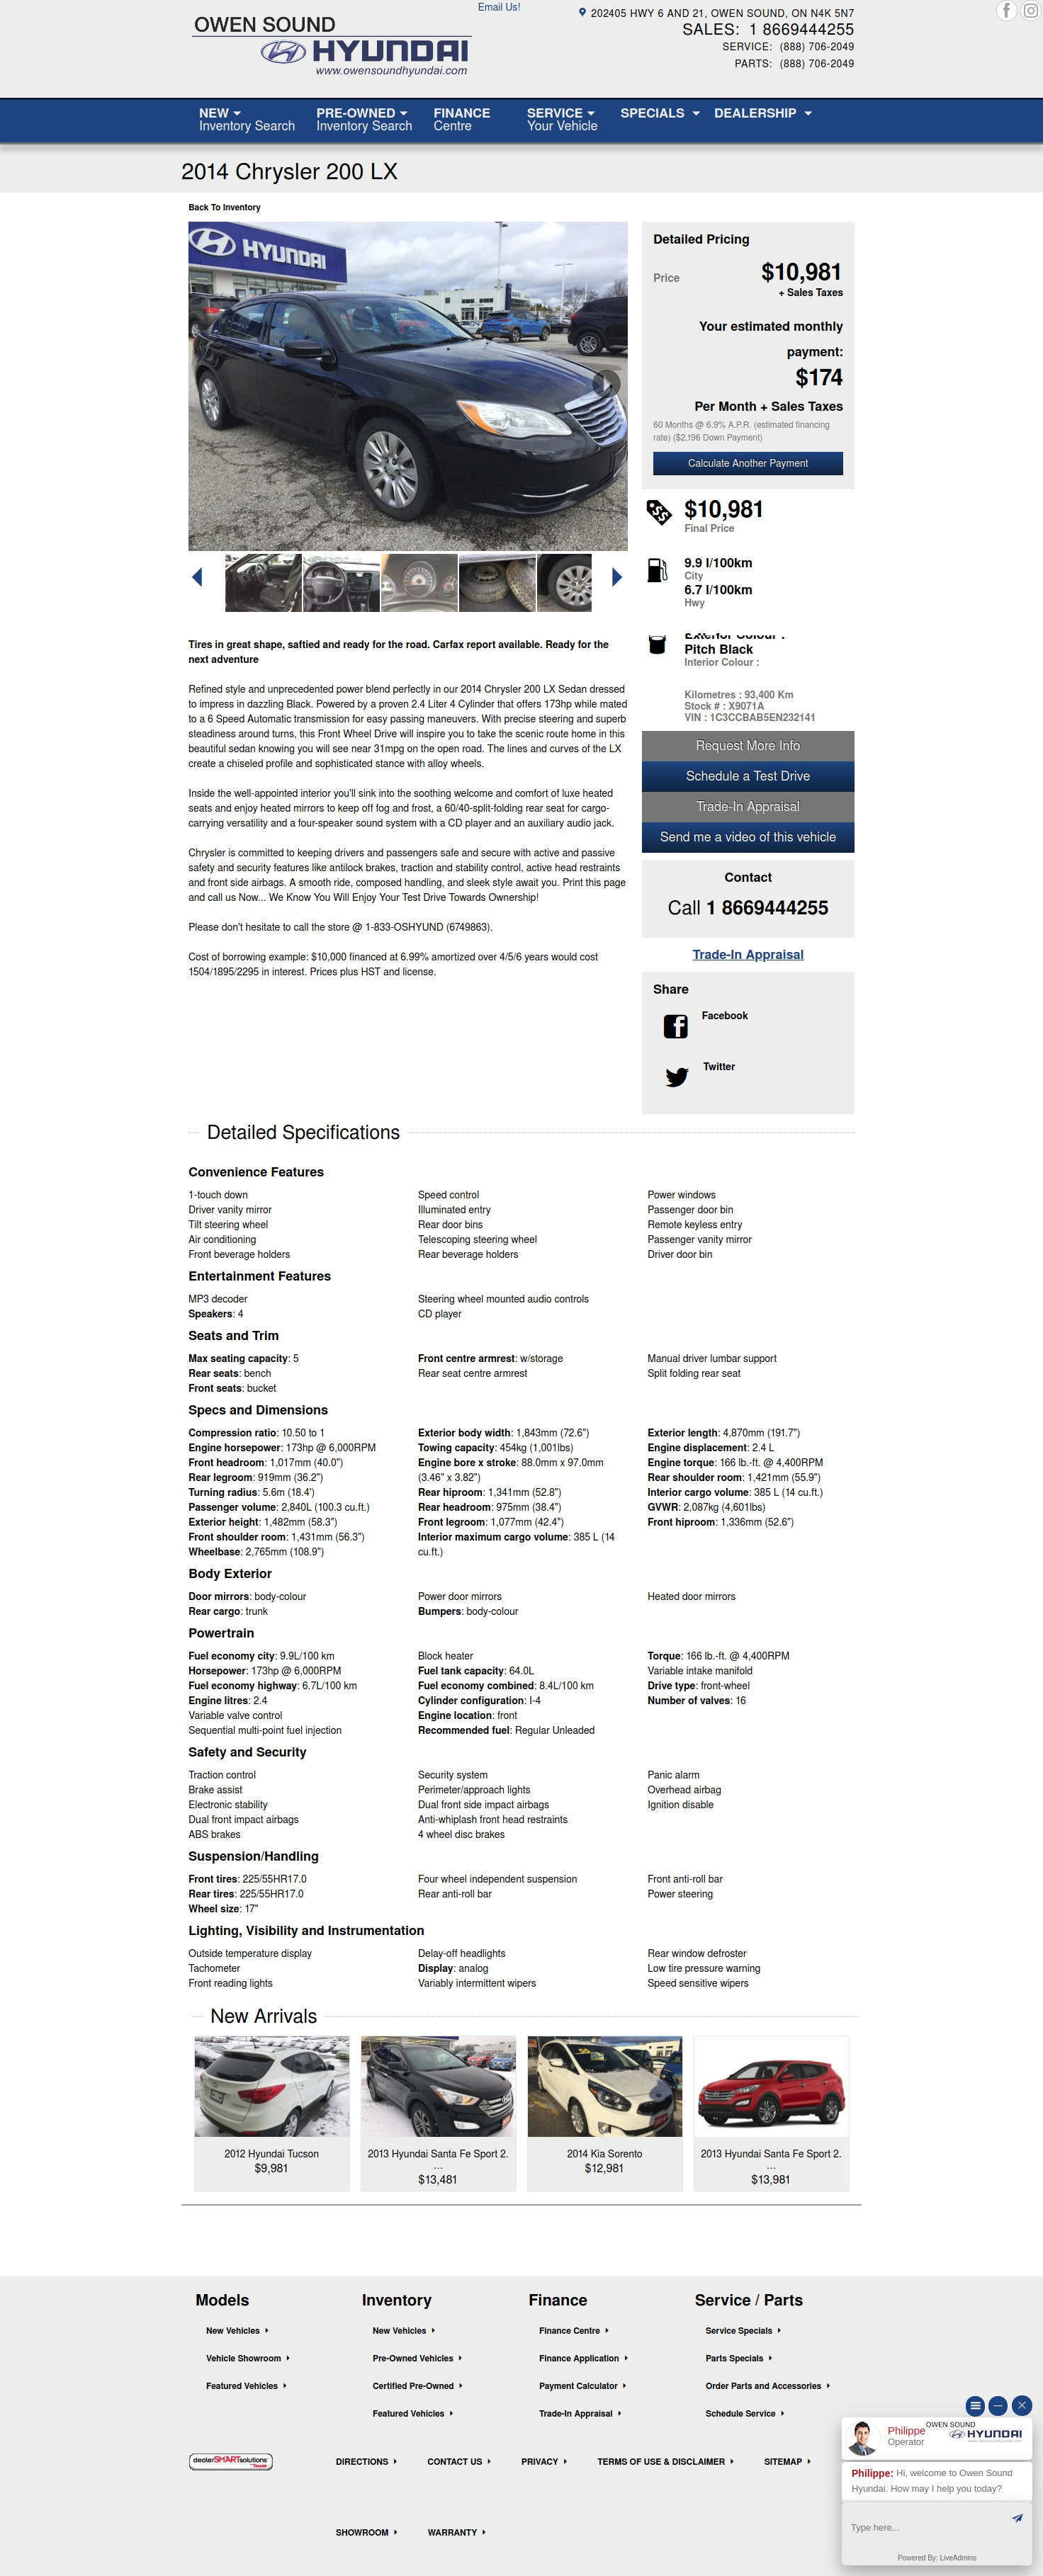car: (611, 565, 626, 588)
